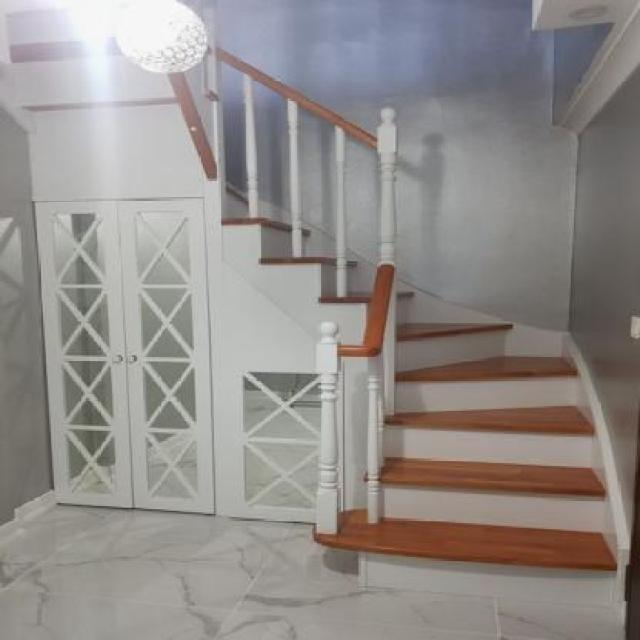stair: (262, 209, 618, 580)
